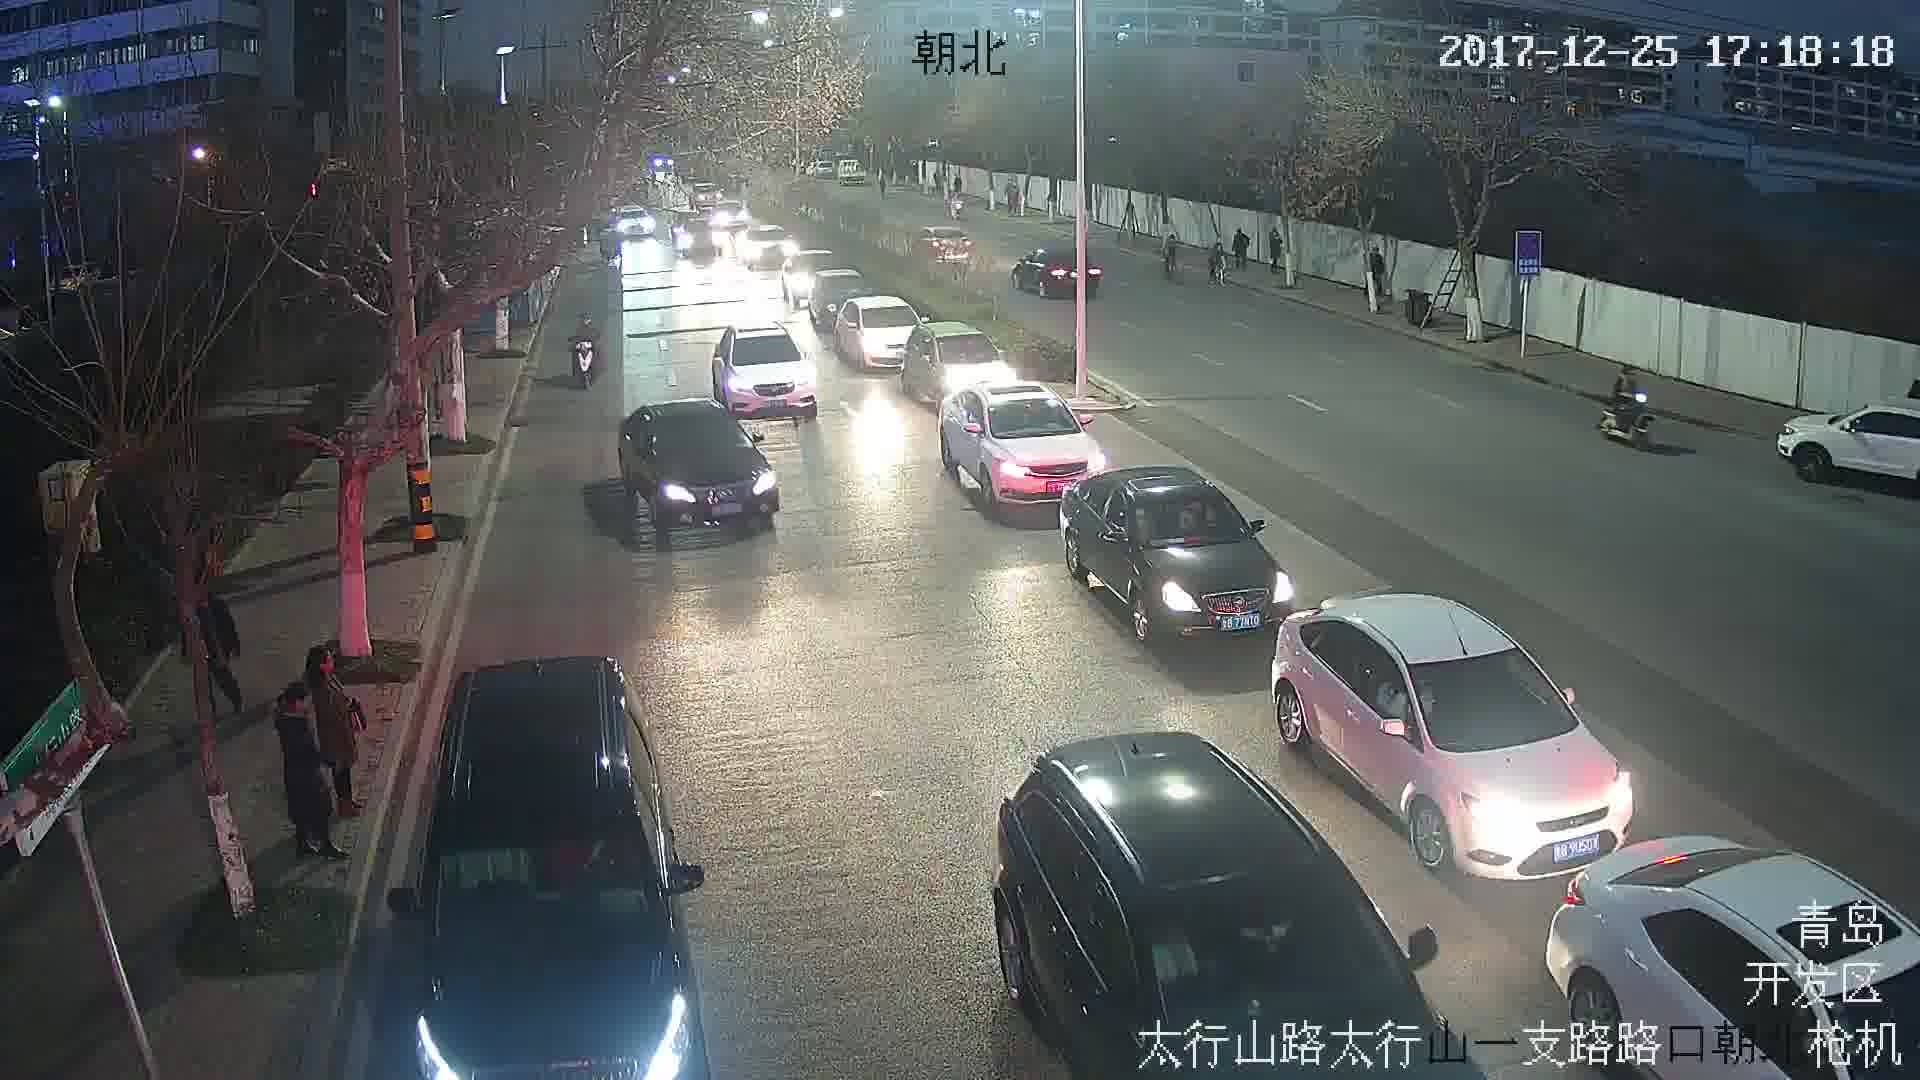car: (1278, 596, 1639, 884), (1063, 464, 1292, 632), (934, 381, 1110, 510), (620, 400, 777, 531), (716, 321, 820, 420), (1013, 248, 1106, 296)
person: (274, 687, 341, 866), (306, 645, 370, 824), (1613, 360, 1649, 421)
